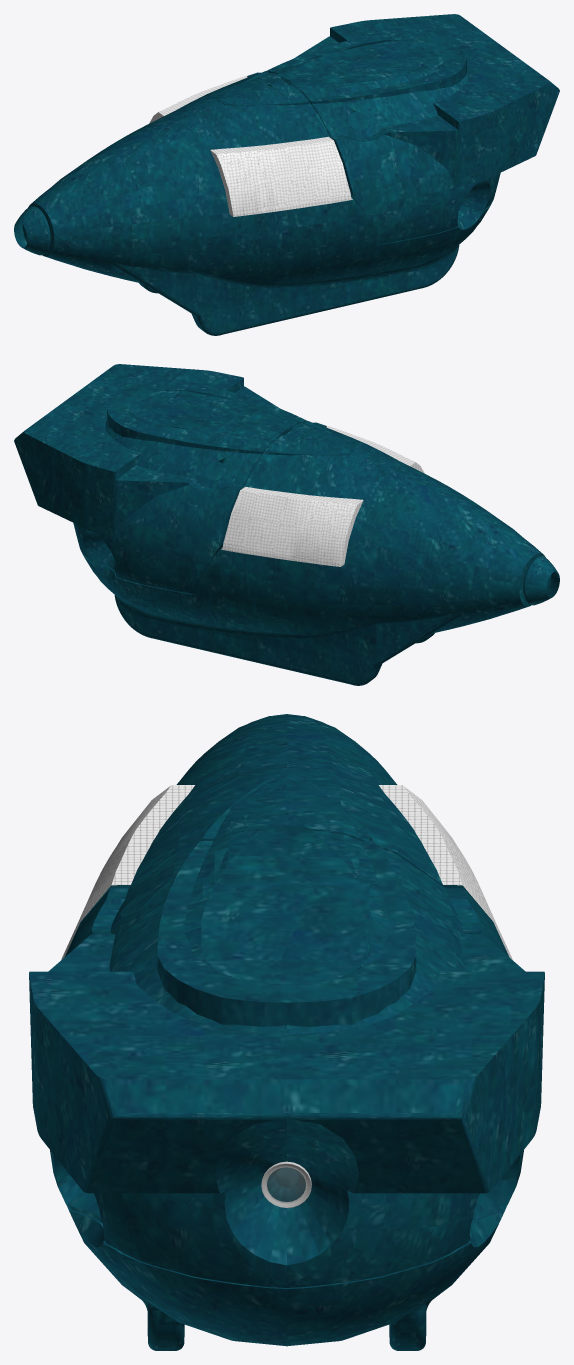
The model's file is aquaaipod.gltf.
3 views of the same model, one above another, from view 1: azimuth 30°, elevation 25°; view 2: azimuth 150°, elevation 25°; view 3: azimuth 270°, elevation 25° (orthographic). The views are drawn at different scales.
Parts seen in each view (by area): view 1: root; view 2: root; view 3: root.
Part boxes in pixels (x1,y1,x2,y2): root: (14, 14, 559, 335); root: (14, 364, 559, 685); root: (29, 714, 544, 1350).
Size of the model in its own units: 5.7 by 2.29 by 2.57.
Materials: 4 (2 with a texture image).
